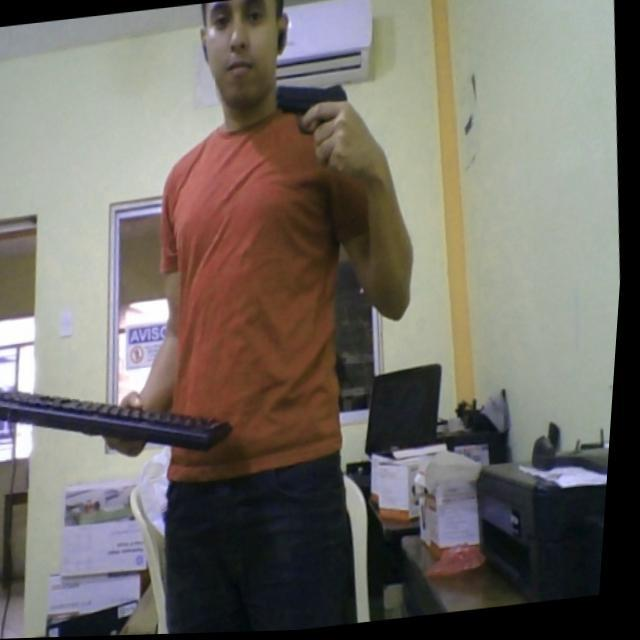weapon: (269, 77, 360, 148)
